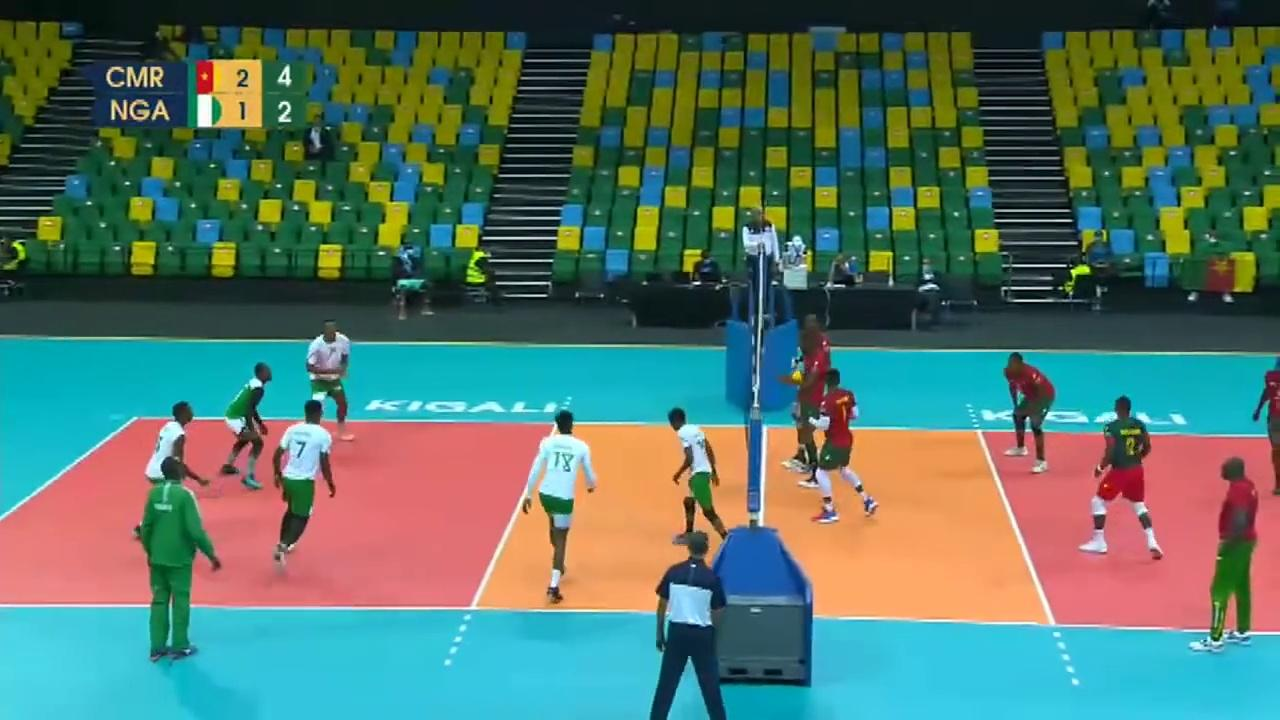player: (264, 393, 341, 580), (526, 411, 599, 606), (1085, 400, 1171, 554), (649, 399, 734, 542), (132, 399, 209, 535), (819, 365, 881, 531), (786, 310, 836, 470), (215, 364, 271, 486), (302, 318, 356, 441), (1004, 351, 1056, 477), (800, 330, 838, 481), (1253, 354, 1280, 497), (1264, 341, 1266, 343)
refree: (652, 531, 735, 720), (740, 209, 784, 315)
